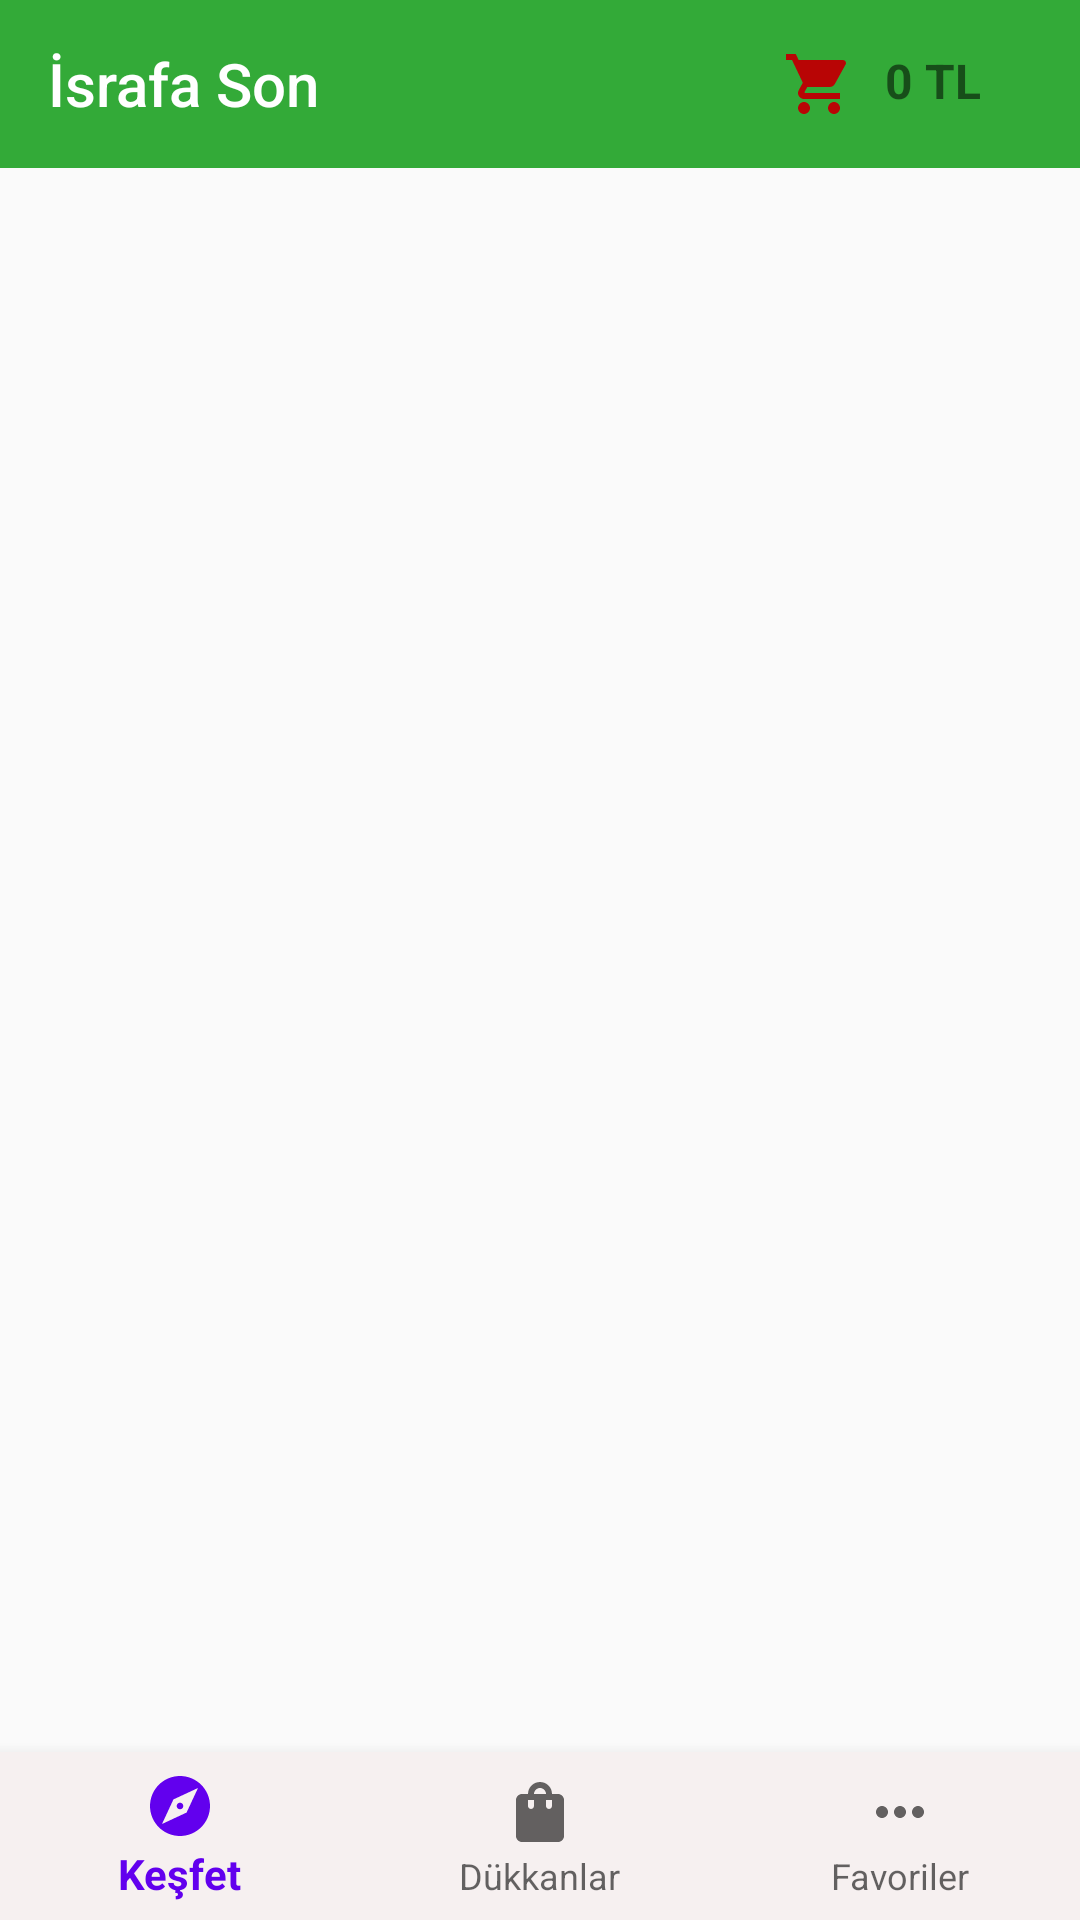

Screen size 1080x1920. Icon name, then its center in pixels as point (x, y):
shopping cart: point (816, 84)
